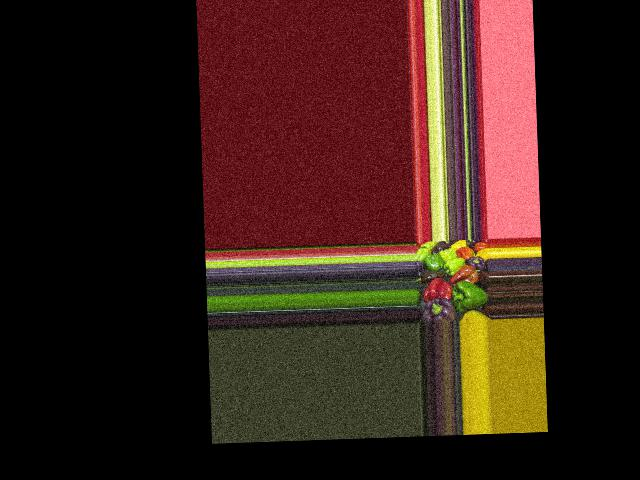bell_pepper: (466, 253, 487, 271)
